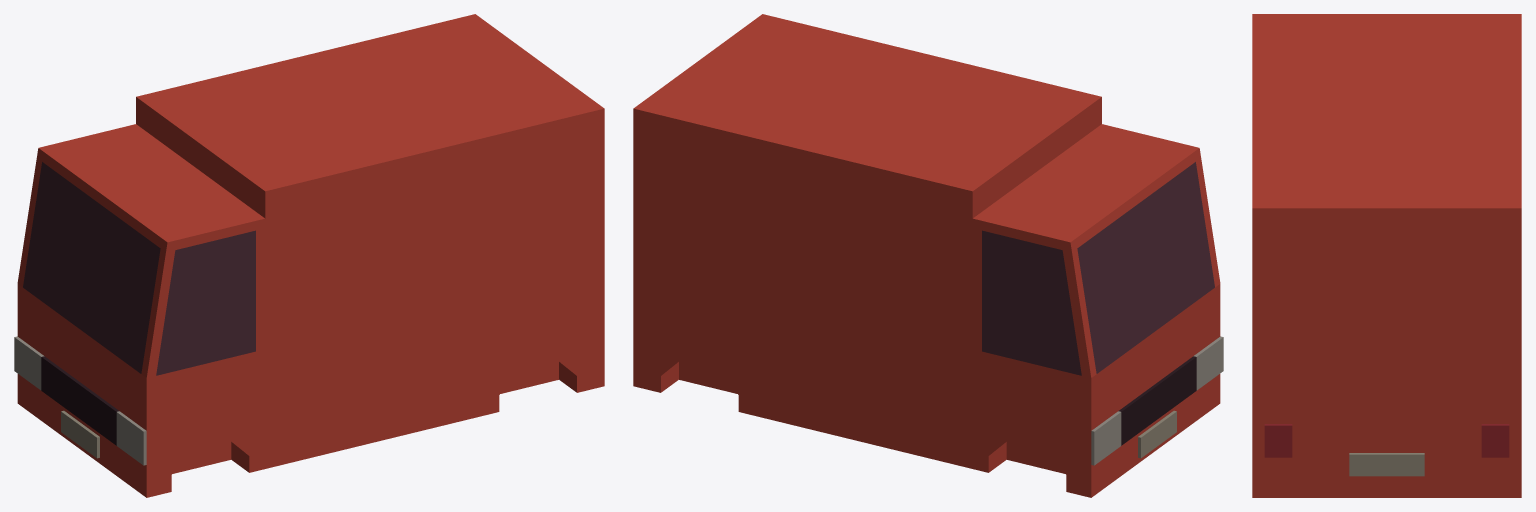
The model's file is MiniTruck_Red.FBX.
3 renders of one model, left to right at view 1: azimuth 30°, elevation 25°; view 2: azimuth 150°, elevation 25°; view 3: azimuth 270°, elevation 25°, orthographic. The views are drawn at different scales.
Parts seen in each view (by area): view 1: MiniTruck_Red; view 2: MiniTruck_Red; view 3: MiniTruck_Red.
Boxes of the visible parts, box(x1,y1,x2,y2) form: MiniTruck_Red: box(14, 14, 604, 497); MiniTruck_Red: box(633, 14, 1223, 497); MiniTruck_Red: box(1252, 14, 1521, 497).
Bounding box in the file's own units: 446 × 215 × 255.
